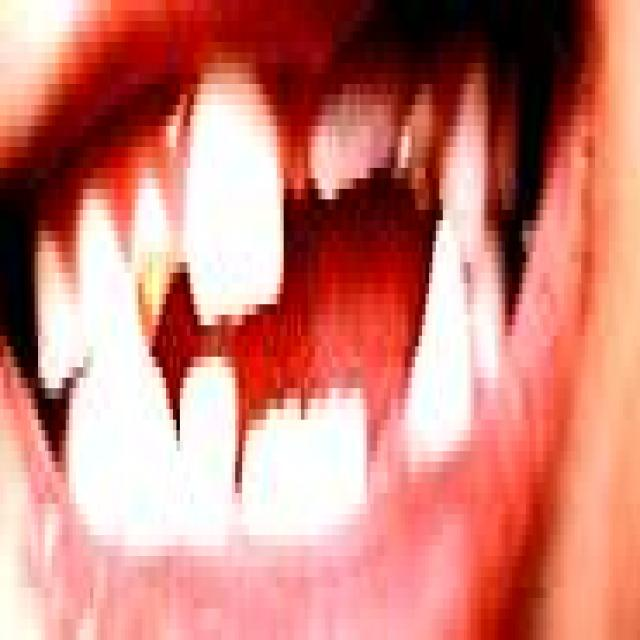caries: (127, 161, 180, 357)
